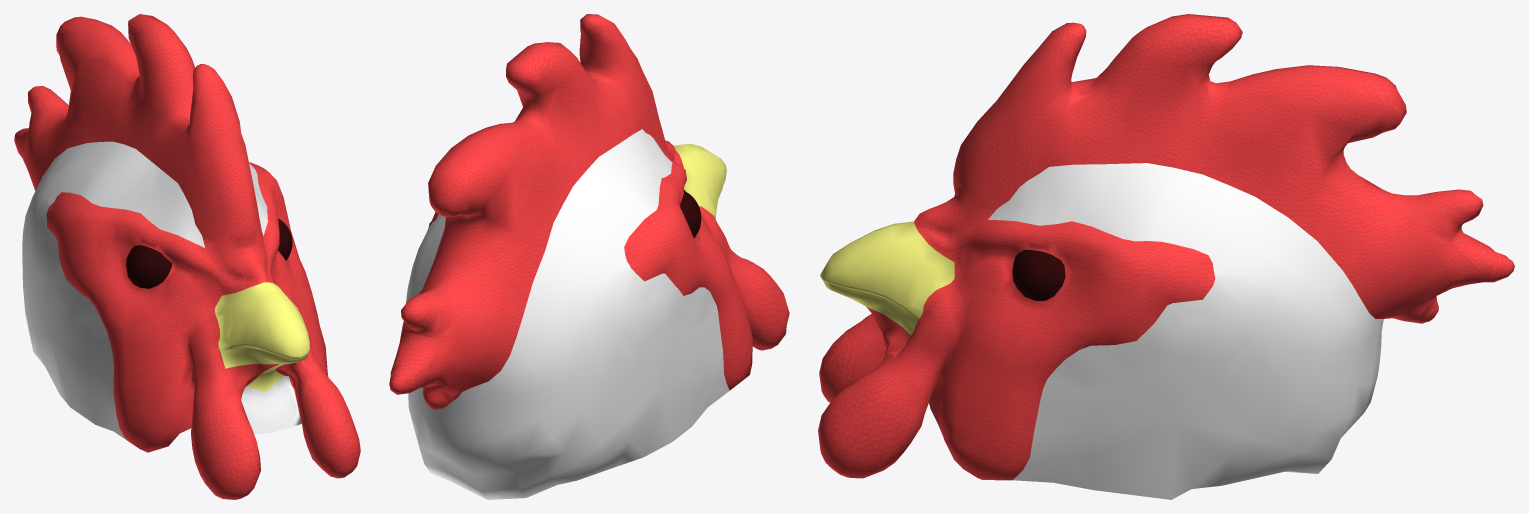
The model's file is RichardMask_WorldItem.fbx.
3 views of the same model, side by side, from view 1: azimuth 30°, elevation 25°; view 2: azimuth 150°, elevation 25°; view 3: azimuth 270°, elevation 25° (orthographic). The views are drawn at different scales.
Parts seen in each view (by area): view 1: Richard_0.001; view 2: Richard_0.001; view 3: Richard_0.001.
Part boxes in pixels (left/top/right/bottom): Richard_0.001: left=14, top=14, right=360, bottom=499; Richard_0.001: left=389, top=14, right=789, bottom=499; Richard_0.001: left=818, top=14, right=1514, bottom=499.
Bounding box in the file's own units: 0.1314 × 0.2154 × 0.307.
